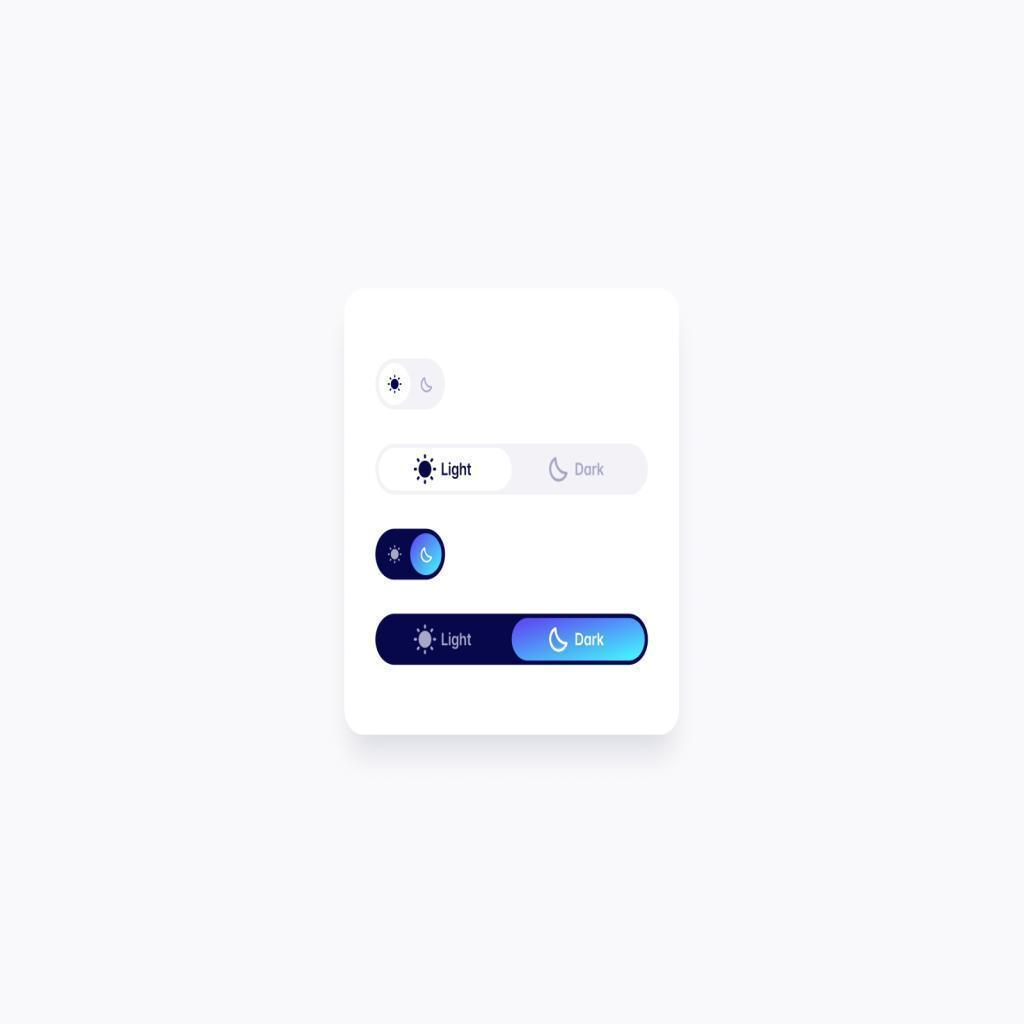switch: (380, 442, 648, 495), (375, 613, 649, 663), (373, 528, 445, 580), (374, 360, 446, 411)
